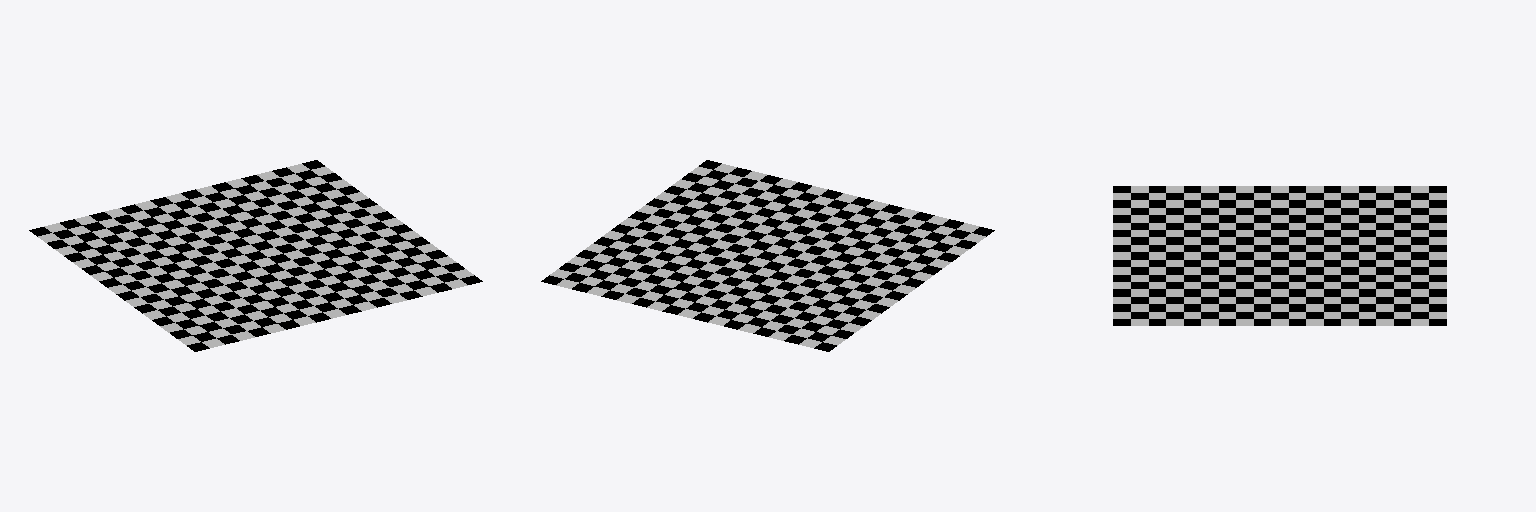
Rendered from floor.obj.
The picture shows the model from 3 angles: view 1: azimuth 30°, elevation 25°; view 2: azimuth 150°, elevation 25°; view 3: azimuth 270°, elevation 25°; orthographic projection.
Parts seen in each view (by area): view 1: Grid; view 2: Grid; view 3: Grid.
Part boxes in pixels (left/top/right/bottom): Grid: left=29, top=160, right=482, bottom=351; Grid: left=541, top=160, right=994, bottom=351; Grid: left=1113, top=186, right=1446, bottom=325.
Bounding box in the file's own units: 35.6 × 0 × 35.6.